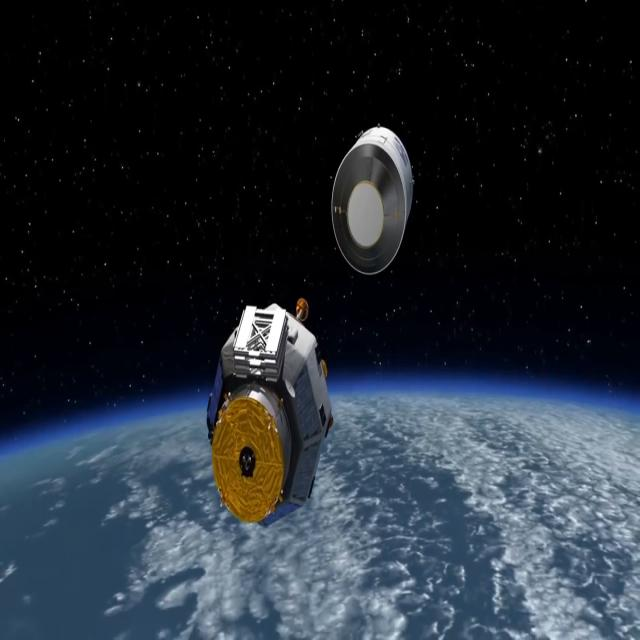large_debris: (320, 120, 421, 284)
medium_debris: (199, 280, 338, 541)
